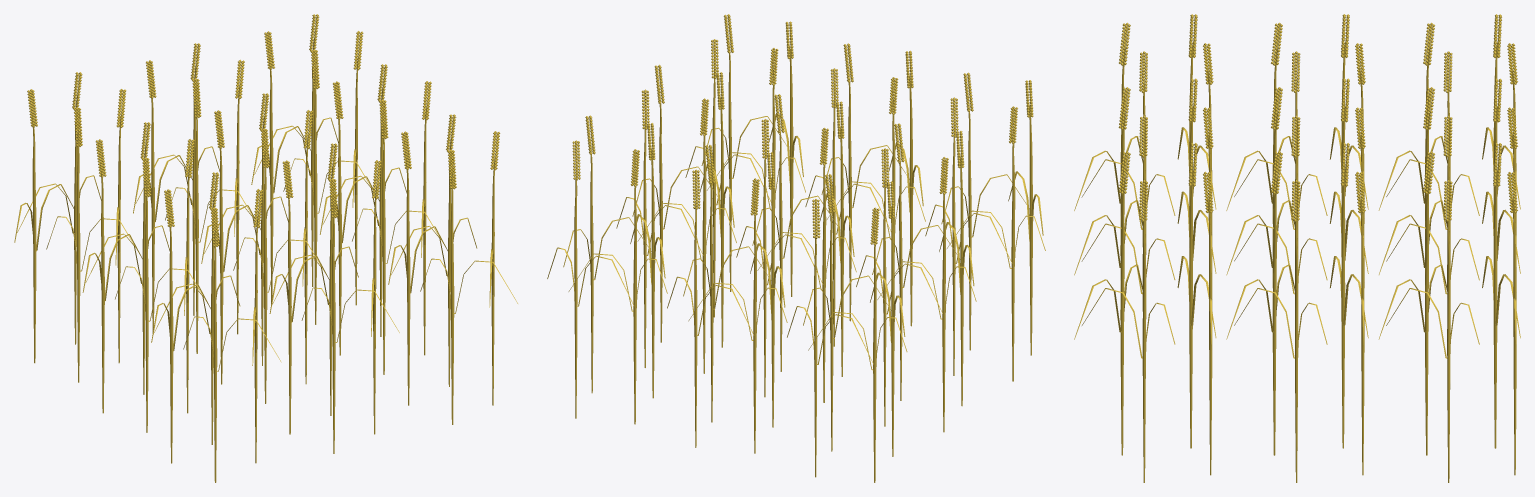
The model's file is Weizen.fbx.
3 renders of one model, left to right at view 1: azimuth 30°, elevation 25°; view 2: azimuth 150°, elevation 25°; view 3: azimuth 270°, elevation 25°, orthographic. The views are drawn at different scales.
Parts seen in each view (by area): view 1: Cloner; view 2: Cloner; view 3: Cloner.
Part boxes in pixels (left/top/right/bottom): Cloner: left=14, top=14, right=517, bottom=482; Cloner: left=547, top=14, right=1045, bottom=482; Cloner: left=1074, top=14, right=1520, bottom=482.
Bounding box in the file's own units: 96.46 × 73.67 × 98.22.
